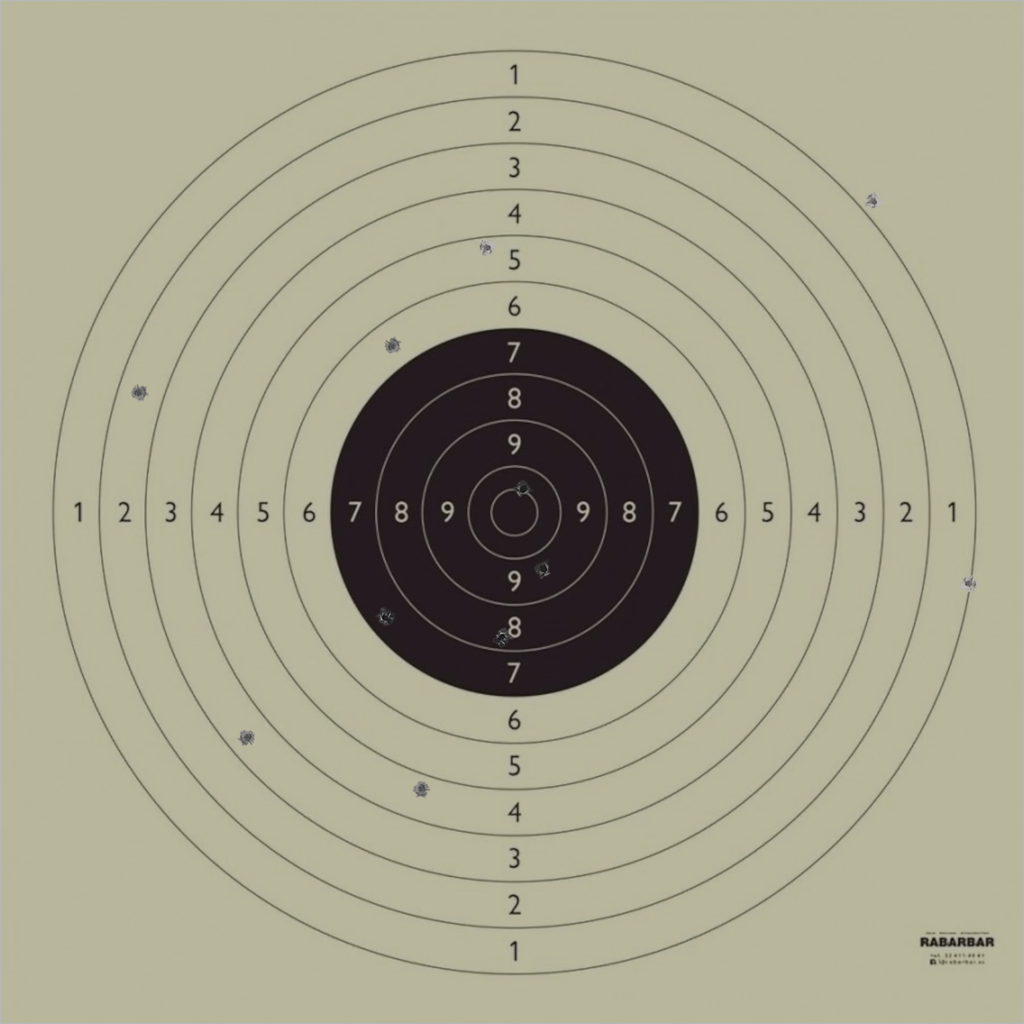0 punktow: (864, 192, 883, 211)
1 punkt: (959, 574, 978, 593)
10 punktow: (514, 480, 532, 498)
2 punkty: (130, 383, 148, 402)
3 punkty: (238, 728, 257, 747)
4 punkty: (412, 780, 431, 798)
5 punktow: (478, 239, 496, 257)
6 punktow: (383, 337, 401, 355)
7 punktow: (376, 608, 394, 627)
8 punktow: (493, 628, 511, 647)
9 punktow: (534, 560, 553, 578)
